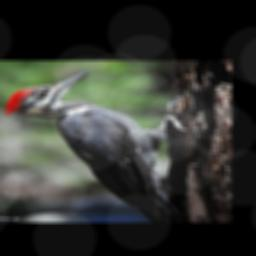Woodpecker: (3, 71, 188, 222)
